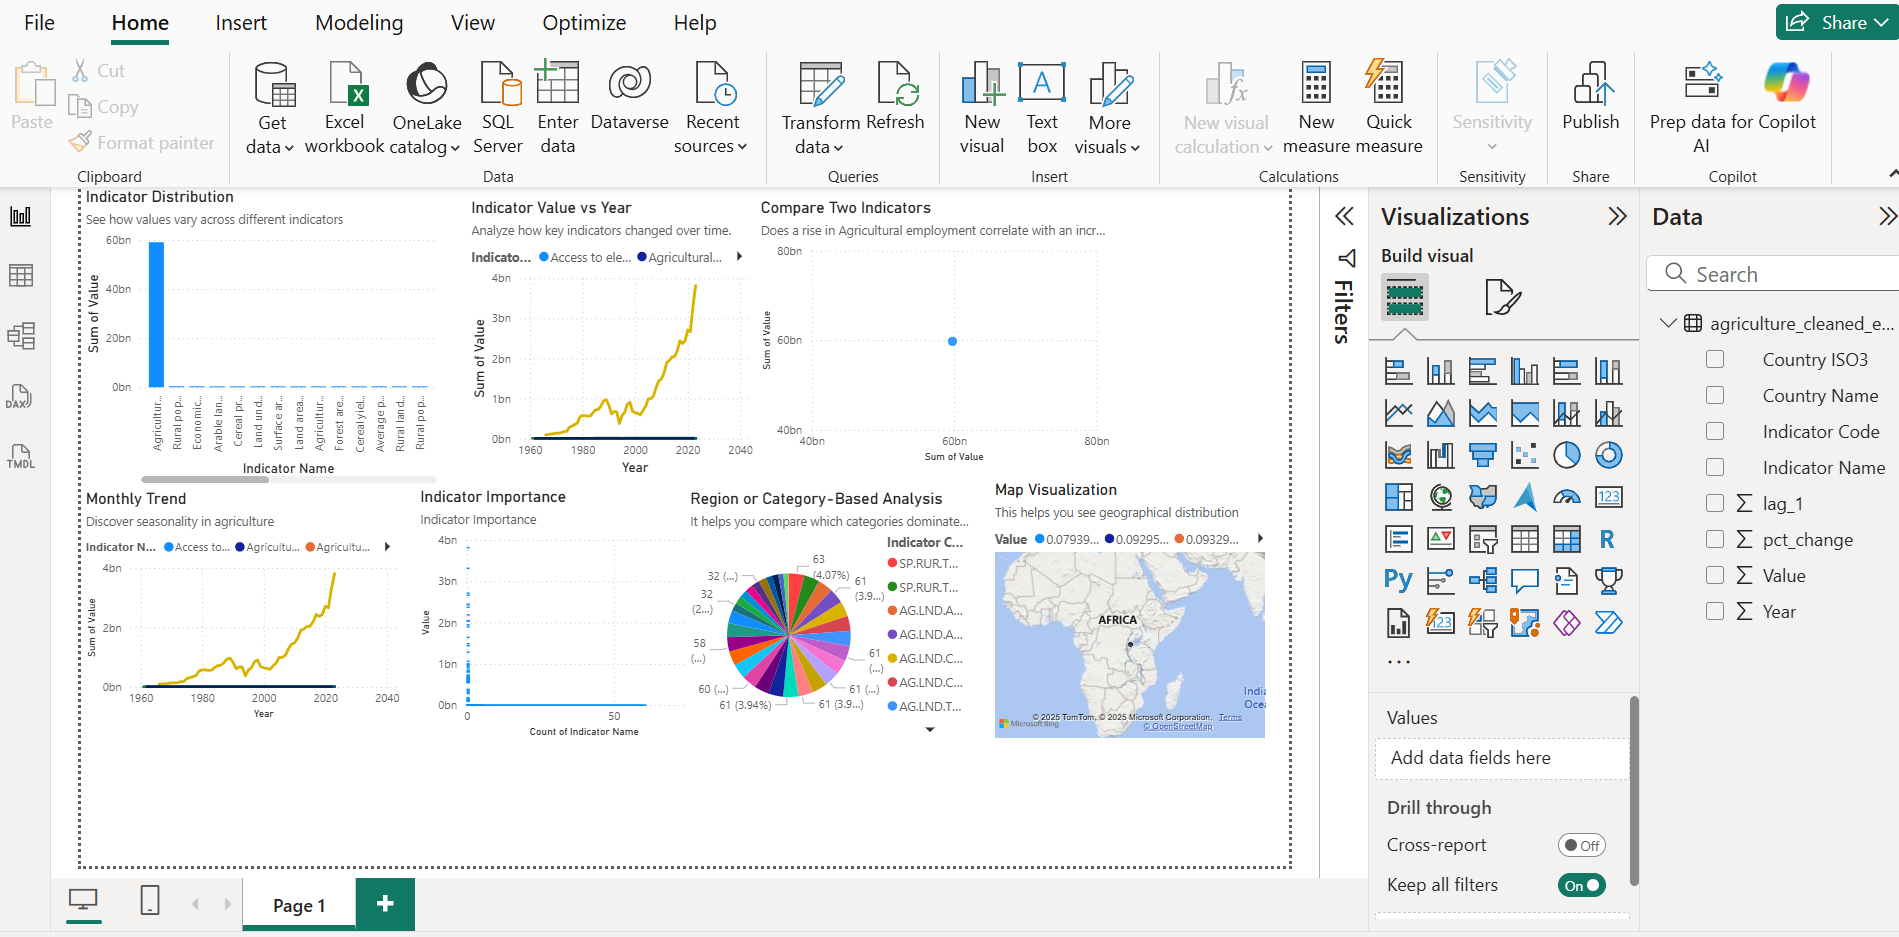

What the dashboard file says about the page in this screenshot:
{"tool":"powerbi","page":{"name":"Page 1","canvas":[1280,720],"ordinal":0},"visuals":[{"type":"clusteredColumnChart","title":" Indicator Distribution","fields":{"Category":["agriculture_cleaned_enhanced.Indicator Name"],"Y":["Sum(agriculture_cleaned_enhanced.Value)"]},"box":[0,0,381.7,319.4],"z":0},{"type":"lineChart","title":" Indicator Value vs Year","fields":{"Category":["agriculture_cleaned_enhanced.Year"],"Y":["Sum(agriculture_cleaned_enhanced.Value)"],"Series":["agriculture_cleaned_enhanced.Indicator Name"]},"box":[408.2,11.3,308,298.6],"z":1},{"type":"scatterChart","title":"Compare Two Indicators","fields":{"X":["Sum(agriculture_cleaned_enhanced.Value)"],"Y":["Sum(agriculture_cleaned_enhanced.Value)"]},"box":[716.2,11.3,379.8,285.4],"z":2},{"type":"lineChart","title":" Monthly Trend ","fields":{"Category":["agriculture_cleaned_enhanced.Year"],"Y":["Sum(agriculture_cleaned_enhanced.Value)"],"Series":["agriculture_cleaned_enhanced.Indicator Name"]},"box":[0,391.3,342,249.7],"z":3},{"type":"clusteredBarChart","title":" Indicator Importance ","fields":{"Y":["CountNonNull(agriculture_cleaned_enhanced.Indicator Name)"],"Category":["agriculture_cleaned_enhanced.Value"]},"box":[342,410.4,268.8,268.8],"z":4},{"type":"pieChart","title":"Region or Category-Based Analysis","fields":{"Category":["agriculture_cleaned_enhanced.Indicator Code"],"Y":["CountNonNull(agriculture_cleaned_enhanced.Country Name)"]},"box":[639.4,410.4,308.6,268.8],"z":5},{"type":"map","title":"Map Visualization","fields":{"Category":["agriculture_cleaned_enhanced.Country ISO3"],"Series":["agriculture_cleaned_enhanced.Value"]},"box":[983,391.3,297.4,278.4],"z":6}]}

Visuals, with their boxes on the page's 1280x720 design canvas (x1, y1, x2, y2). These are canvas units, not pixel positions in the 1899x937 screenshot, which may show the page scaled, cropped or inside an application window:
" Indicator Distribution" clusteredColumnChart: [0, 0, 382, 319]
" Indicator Value vs Year" lineChart: [408, 11, 716, 310]
"Compare Two Indicators" scatterChart: [716, 11, 1096, 297]
" Monthly Trend " lineChart: [0, 391, 342, 641]
" Indicator Importance " clusteredBarChart: [342, 410, 611, 679]
"Region or Category-Based Analysis" pieChart: [639, 410, 948, 679]
"Map Visualization" map: [983, 391, 1280, 670]
